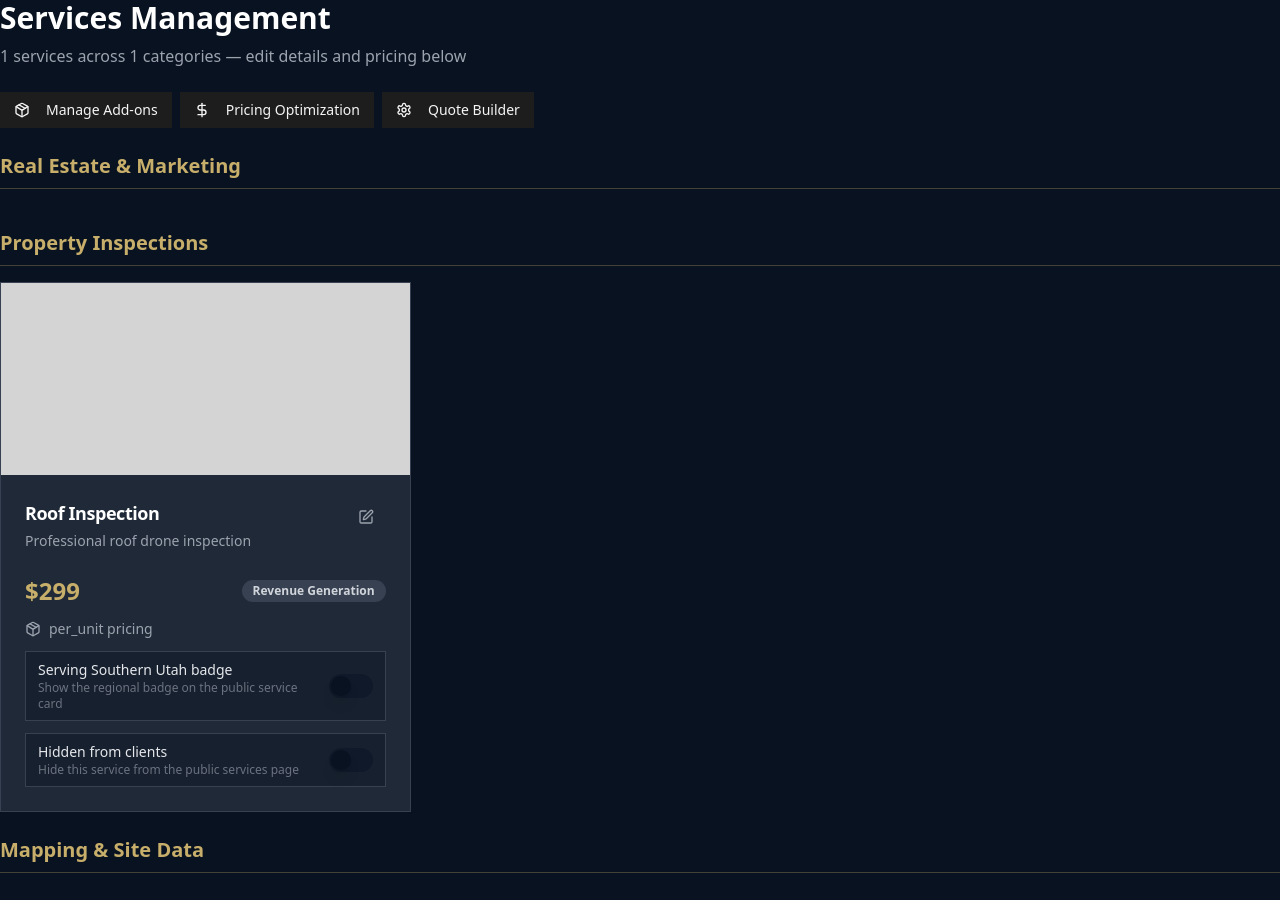
Test: ServicesManagement – disclaimer preview updates live › preview renders the trimmed value — leading/trailing whitespace is stripped
Expected: the heading "Roof Inspection" is shown, [25,501,159,525]
Click the 4th button: {"x": 366, "y": 517} [346,499,386,535]
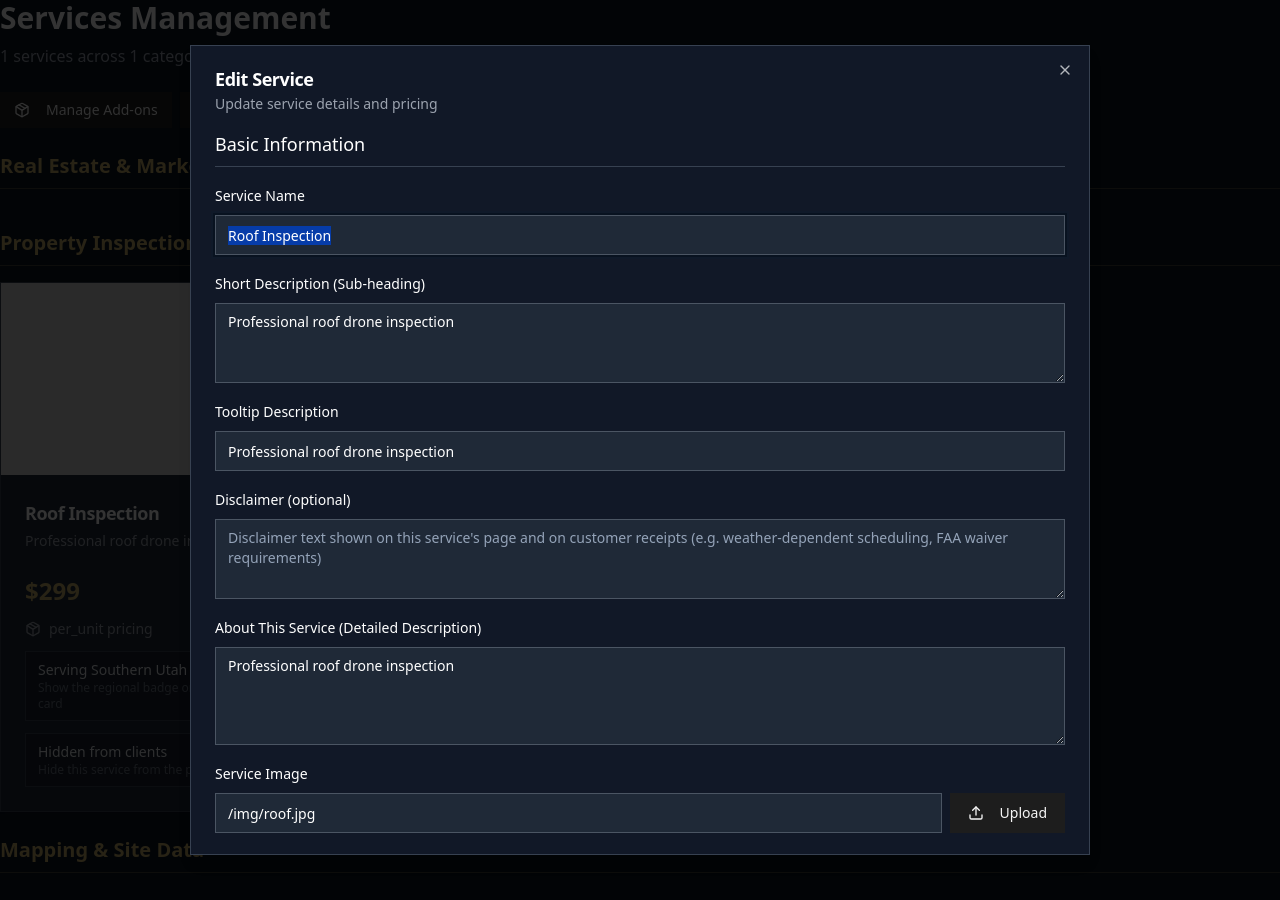
Now the dialog is shown
Now the text box labelled "Disclaimer (optional)" is shown
Replace the text in the text box labelled "Disclaimer (optional)" with "  FAA waiver required.  ": {"x": 640, "y": 559} [215,519,1065,599]
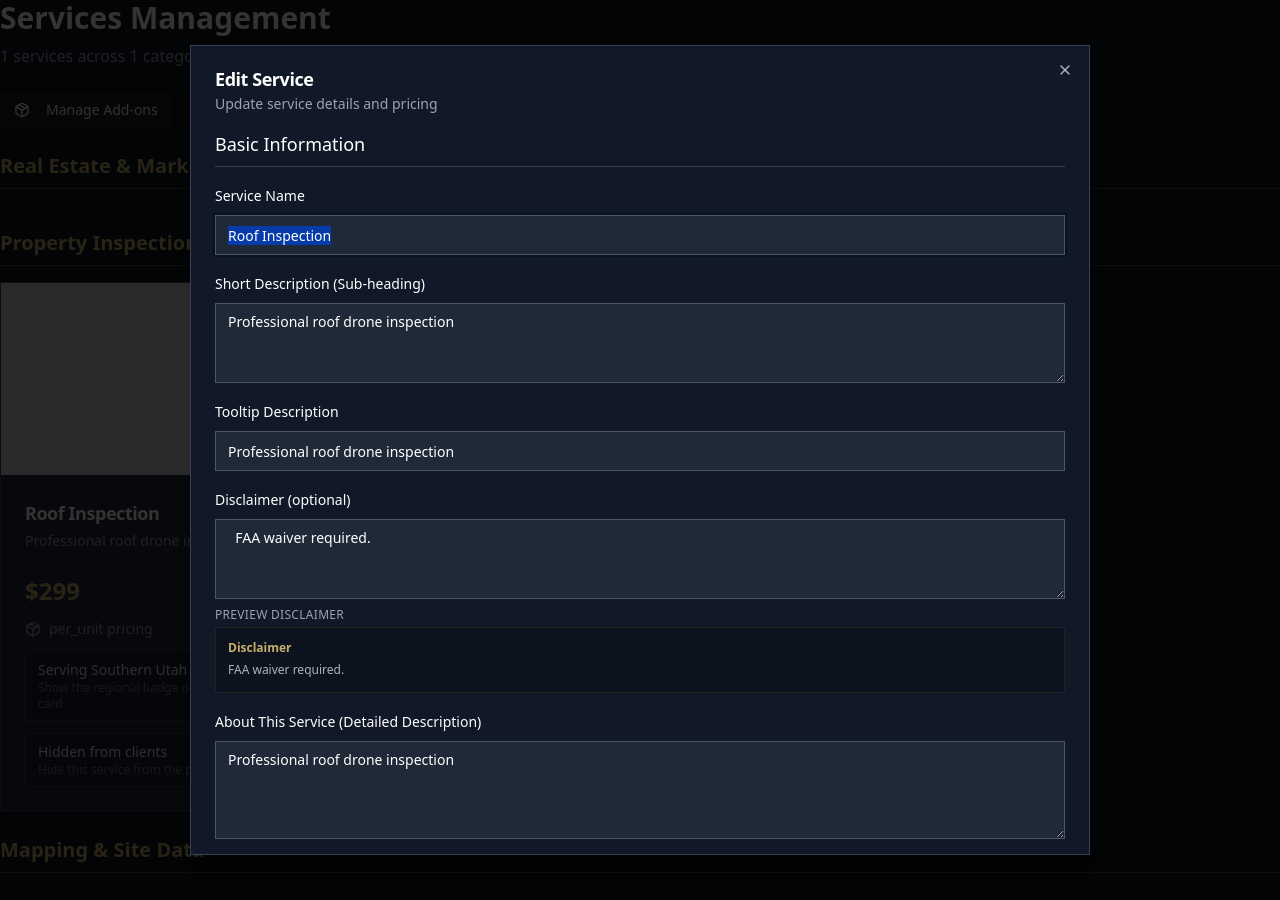
Now the text "Preview disclaimer" is shown, box [215,606,344,623]
Now the text with class "whitespace-pre-line" reads "FAA waiver required.", box [228,661,344,678]
